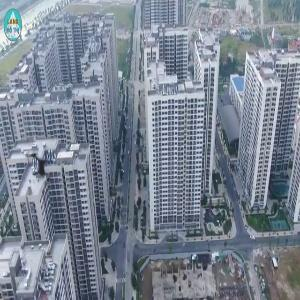drone: (13, 141, 71, 199)
